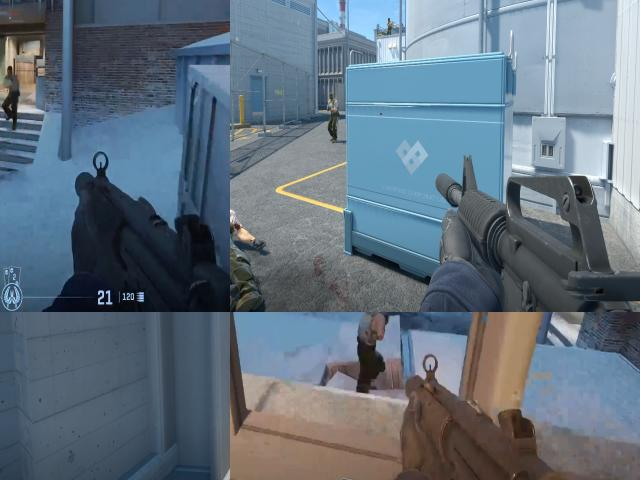Dead: (230, 192, 265, 312)
T: (359, 312, 387, 371), (325, 90, 339, 143), (4, 63, 19, 102), (386, 18, 392, 36)
T-Head: (5, 64, 14, 83), (328, 91, 335, 103), (386, 16, 392, 24)
